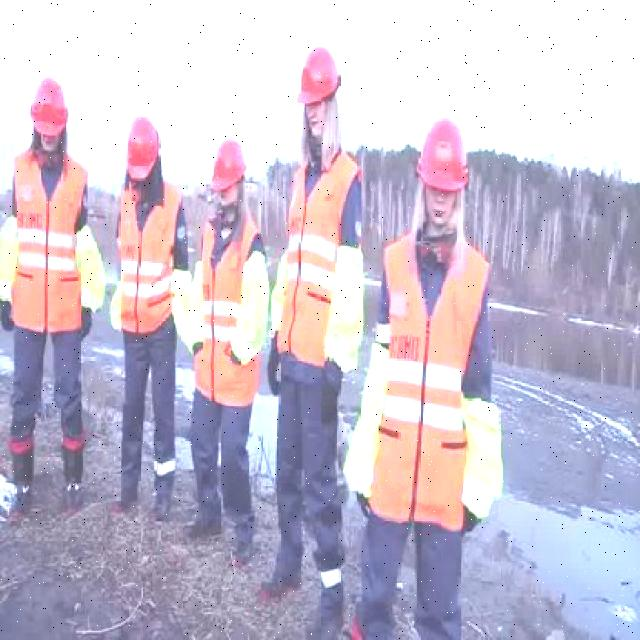Gloves: (268, 332, 281, 390), (80, 305, 92, 343), (1, 294, 14, 328)
Helmet: (413, 116, 470, 192), (294, 42, 338, 104), (126, 114, 162, 184), (33, 76, 67, 142), (208, 140, 246, 196)
Mask: (343, 238, 499, 638), (260, 152, 365, 640), (359, 238, 493, 536), (2, 152, 87, 520), (186, 219, 266, 564), (114, 178, 190, 522), (272, 152, 358, 368), (192, 217, 260, 408), (116, 181, 182, 337), (347, 342, 390, 496), (460, 393, 505, 522), (323, 246, 365, 372), (228, 258, 268, 367), (80, 212, 108, 314), (266, 241, 288, 334), (168, 264, 192, 338), (190, 251, 207, 347), (3, 209, 20, 303), (110, 266, 124, 322)
